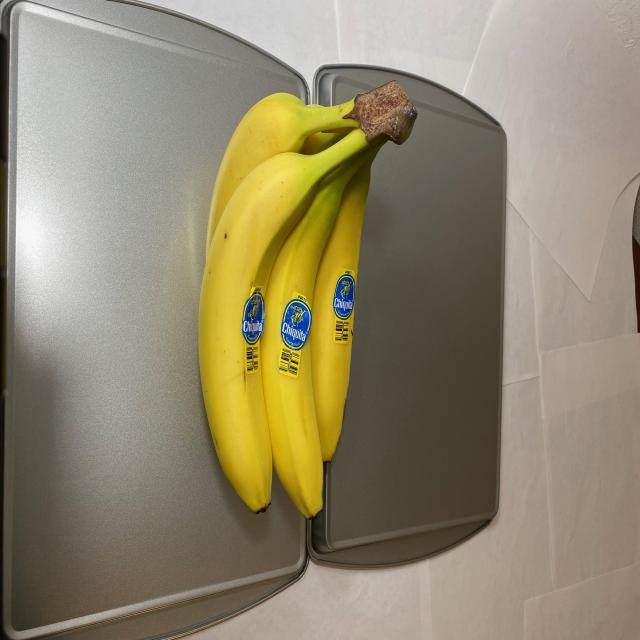Banana: (198, 73, 418, 521)
